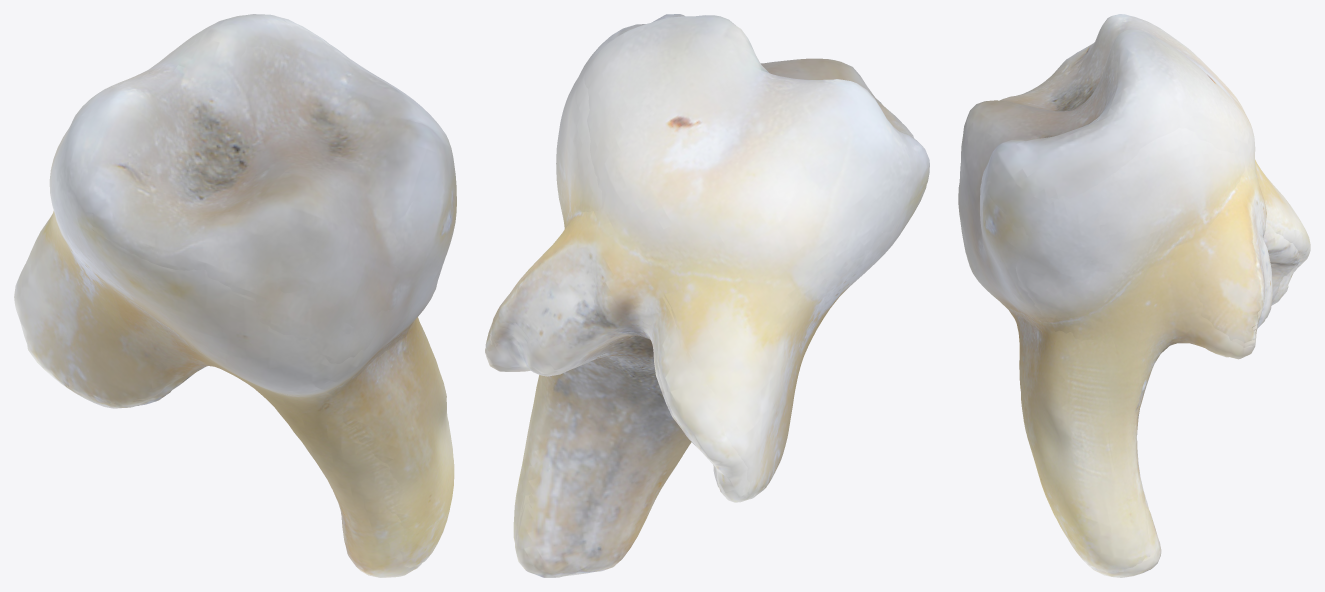
The model's file is crown.glb.
3 renders of one model, left to right at view 1: azimuth 30°, elevation 25°; view 2: azimuth 150°, elevation 25°; view 3: azimuth 270°, elevation 25°, orthographic. The views are drawn at different scales.
Visible parts, largest first — view 1: Object_2; view 2: Object_2; view 3: Object_2.
Boxes of the visible parts, x1,y1,x2,y2 form: Object_2: (14, 14, 456, 577); Object_2: (485, 14, 929, 577); Object_2: (958, 14, 1310, 577).
Size of the model in its own units: 0.2348 by 0.3488 by 0.2329.
1 material, 1 textured.
